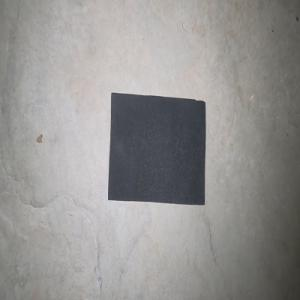PaintChip: (107, 92, 206, 205)
